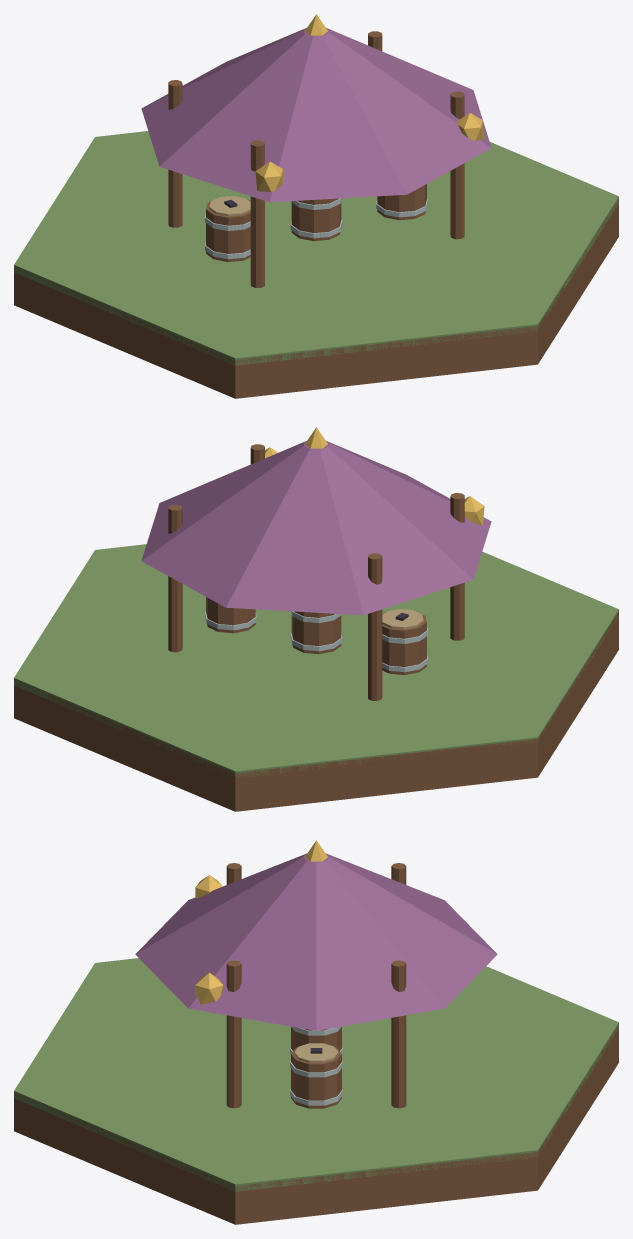
The model's file is festival.glb.
3 views of the same model, one above another, from view 1: azimuth 30°, elevation 25°; view 2: azimuth 150°, elevation 25°; view 3: azimuth 270°, elevation 25° (orthographic).
Parts seen in each view (by area): view 1: Cone.109, Cone.114, Cone.108, Cone.110, Cone.116, Cone.120, Cone.112, Cone.111, Cone.124, Icosphere.068, Cone.119, Icosphere.070; view 2: Cone.109, Cone.114, Cone.108, Cone.111, Cone.116, Cone.120, Cone.113, Cone.110, Cone.124, Cone.119; view 3: Cone.109, Cone.114, Cone.108, Cone.124, Cone.112, Cone.113, Cone.120, Icosphere.070, Cone.127.
Boxes of the visible parts, x1,y1,x2,y2 form: Cone.109: (14,131,618,365); Cone.114: (141,28,491,202); Cone.108: (14,200,618,398); Cone.110: (250,140,264,287); Cone.116: (206,198,250,261); Cone.120: (291,198,341,241); Cone.112: (450,91,464,239); Cone.111: (168,80,182,227); Cone.124: (377,184,426,220); Icosphere.068: (255,161,282,191); Cone.119: (209,196,250,216); Icosphere.070: (457,113,484,140); Cone.109: (14,544,618,778); Cone.114: (141,441,491,615); Cone.108: (14,611,618,811); Cone.111: (368,553,382,700); Cone.116: (382,611,426,674); Cone.120: (291,611,341,654); Cone.113: (168,504,182,652); Cone.110: (450,493,464,640); Cone.124: (206,597,255,633); Cone.119: (382,609,423,629); Cone.109: (14,958,618,1191); Cone.114: (135,853,497,1030); Cone.108: (14,1025,618,1224); Cone.124: (291,1047,341,1108); Cone.112: (226,960,241,1108); Cone.113: (391,960,406,1108); Cone.120: (291,1027,341,1050); Icosphere.070: (195,972,223,1004); Cone.127: (294,1043,338,1062).
Bounding box in the file's own units: 3.67 × 1.72 × 3.67.
